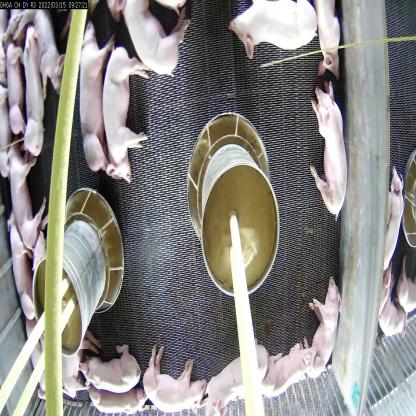Pig: (100, 45, 148, 192), (314, 80, 352, 214), (122, 0, 190, 74), (229, 0, 315, 58), (78, 26, 111, 174), (202, 342, 274, 406), (5, 143, 46, 253), (27, 0, 71, 91), (18, 27, 48, 159), (1, 42, 36, 144), (145, 347, 201, 410), (2, 223, 34, 333), (310, 276, 339, 382), (265, 340, 317, 394), (84, 341, 138, 390), (312, 0, 340, 76), (87, 392, 151, 415)
